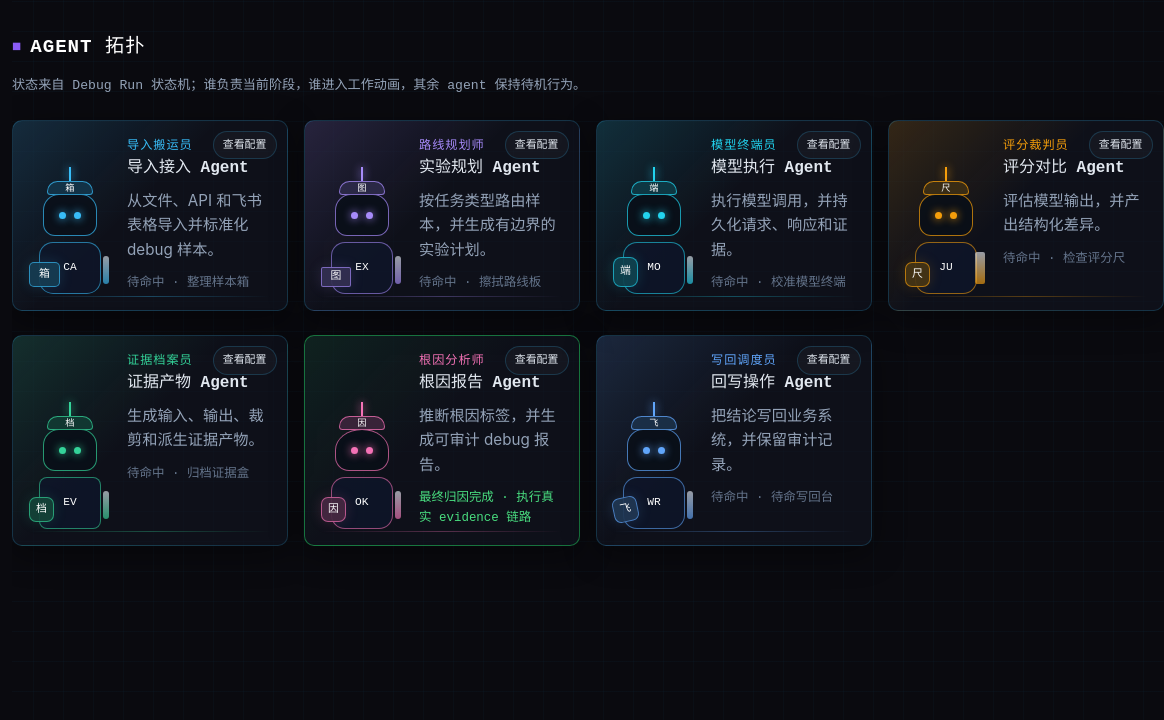
Test: AgentTopologyPanel › opens an agent configuration drawer with model and telemetry
Click the button with aria-label "打开评分对比 Agent配置".
click(1121, 145)  # box top-left (1089, 131), bottom-right (1153, 159)
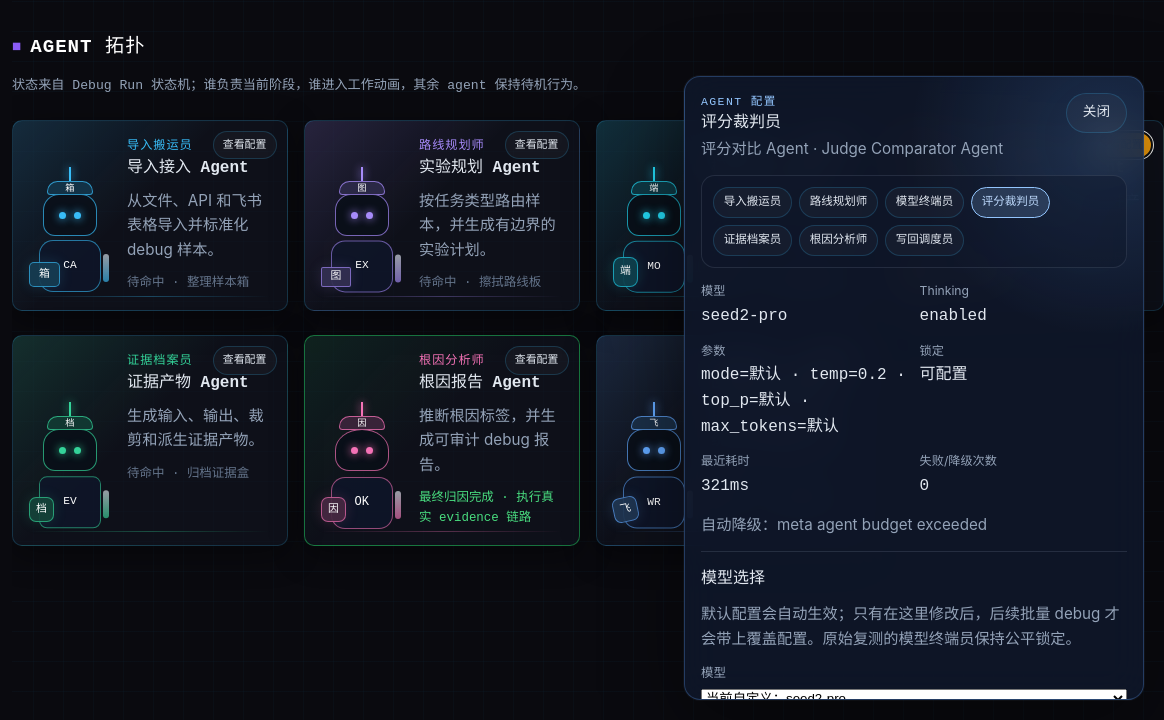
Now the element named "Agent 配置抽屉" is shown, box top-left (684, 76), bottom-right (1144, 700)
Now the heading "评分裁判员" is shown, box top-left (701, 114), bottom-right (781, 132)
Now the text "seed2-pro" is shown, box top-left (701, 307), bottom-right (787, 325)
